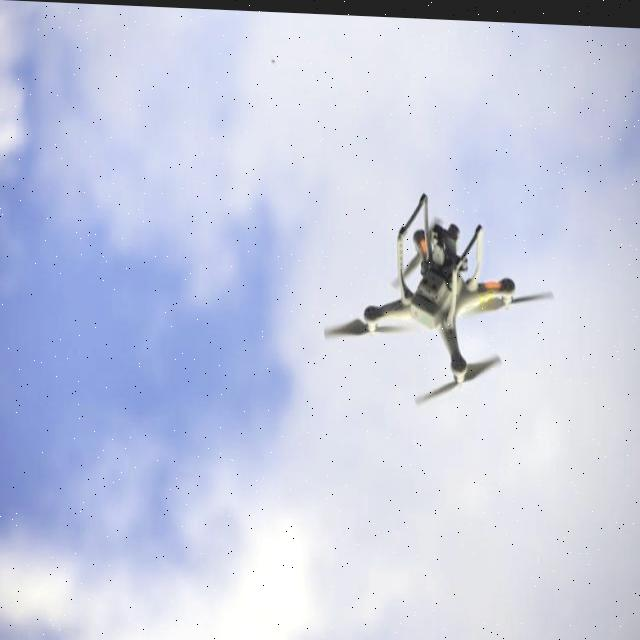drone: (318, 206, 554, 409)
